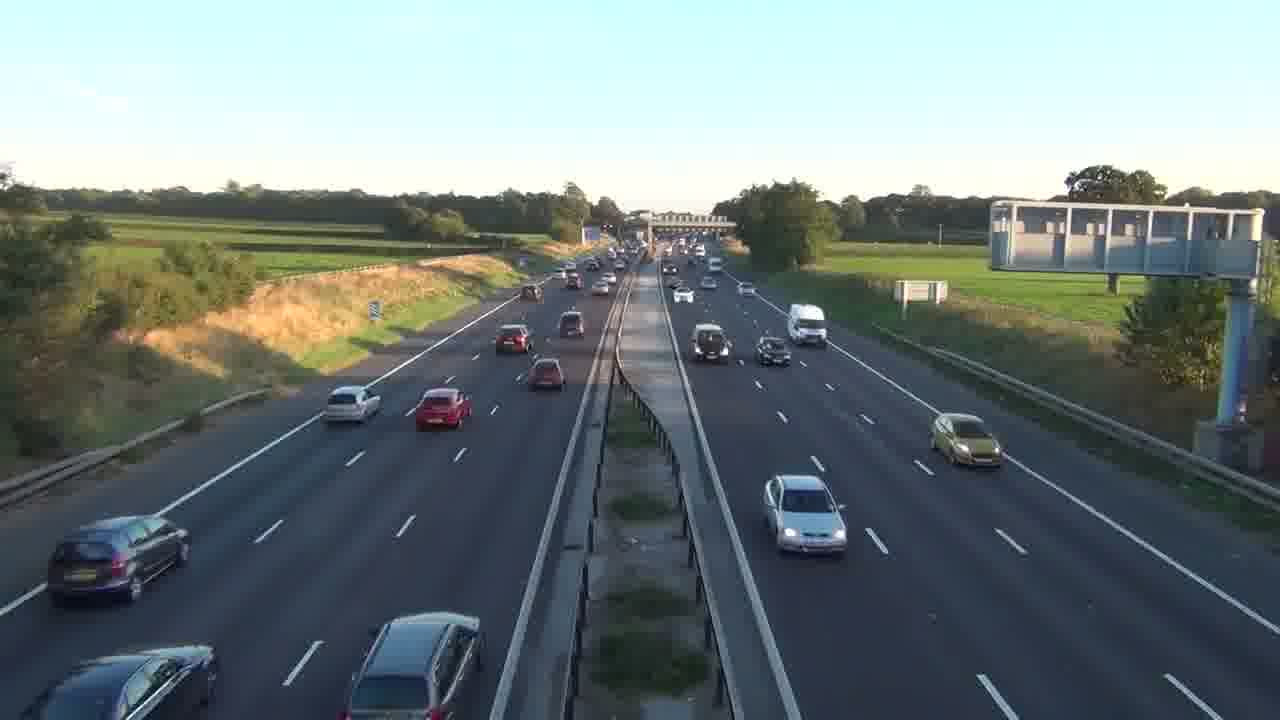car: (338, 609, 485, 718), (46, 514, 192, 606), (762, 473, 848, 557), (930, 411, 1006, 469), (414, 387, 472, 431), (322, 383, 383, 424), (526, 357, 566, 390), (756, 335, 792, 367), (558, 310, 585, 339)
truck: (786, 303, 829, 345)
